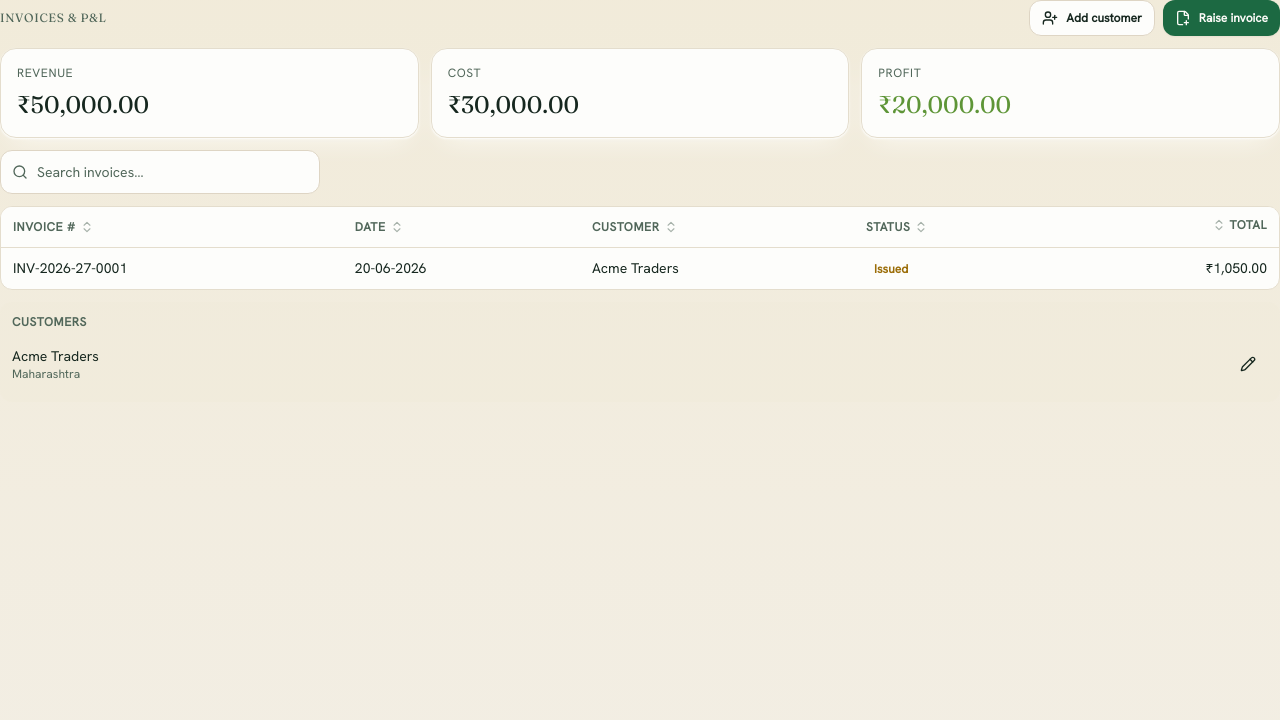
InvoicePanel lifecycle (slice 11.9) › edits a customer through the roster pencil (PATCH body, blank keeps write-only fields)
Click the button named "Edit customer Acme Traders".
click(1248, 364)  # box x1=1228 y1=346 x2=1268 y2=382
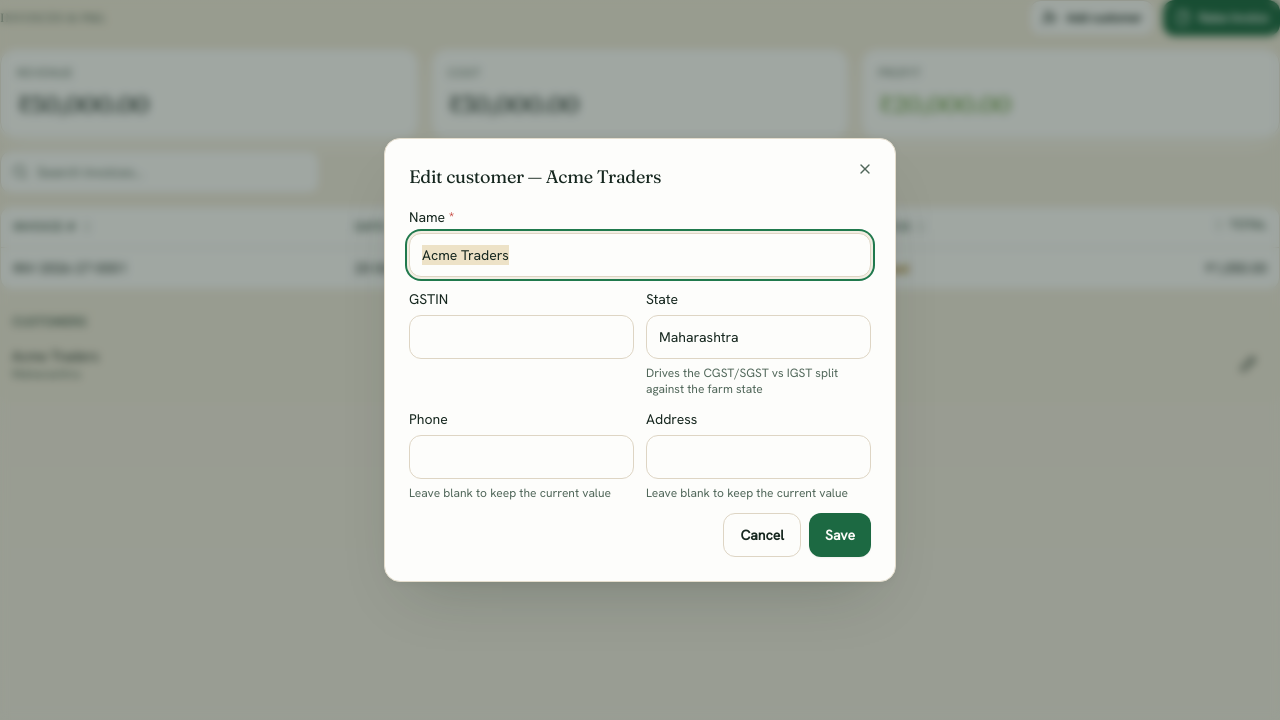
Replace the text in the field labelled "Name *" with "Acme Traders Pvt Ltd" at (640, 255), box x1=409 y1=233 x2=871 y2=277
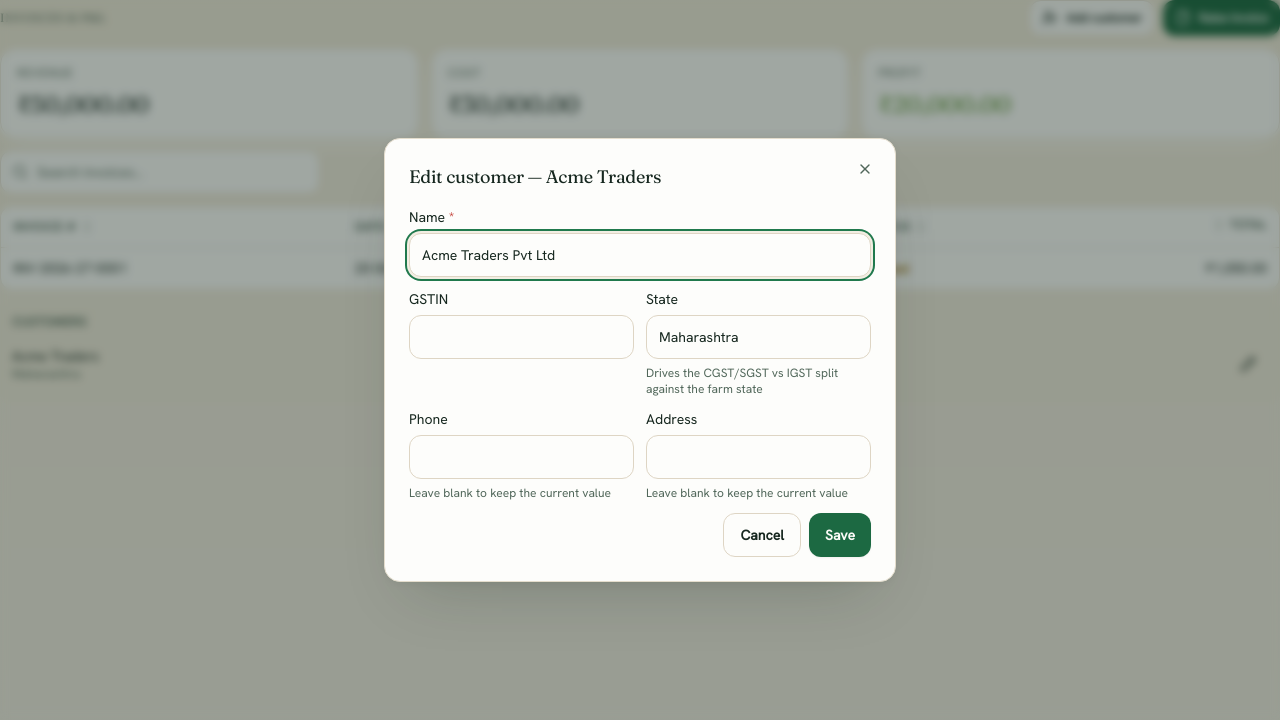
Replace the text in the field labelled "State" with "Karnataka" at (758, 337), box x1=646 y1=315 x2=871 y2=359
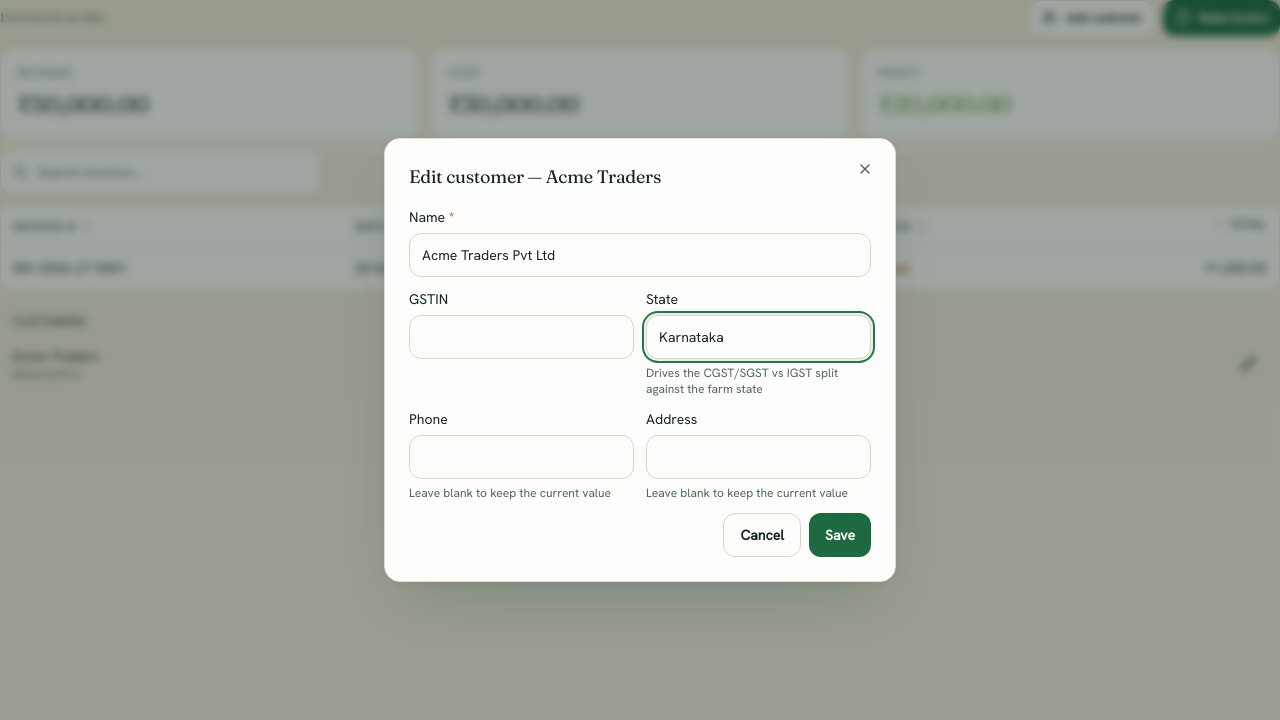
Click the button "Save".
click(840, 535)  # box x1=809 y1=513 x2=871 y2=557
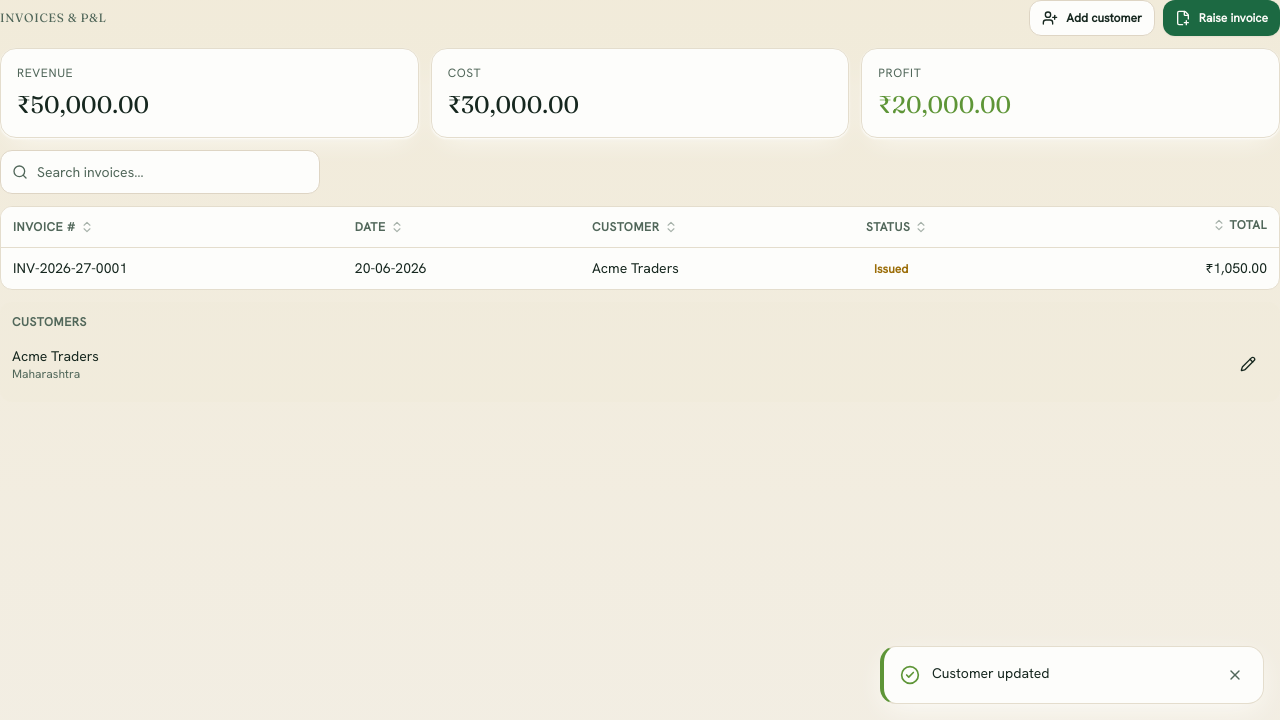
Expected: the text "Customer updated" is shown, x1=932 y1=664 x2=1050 y2=682
